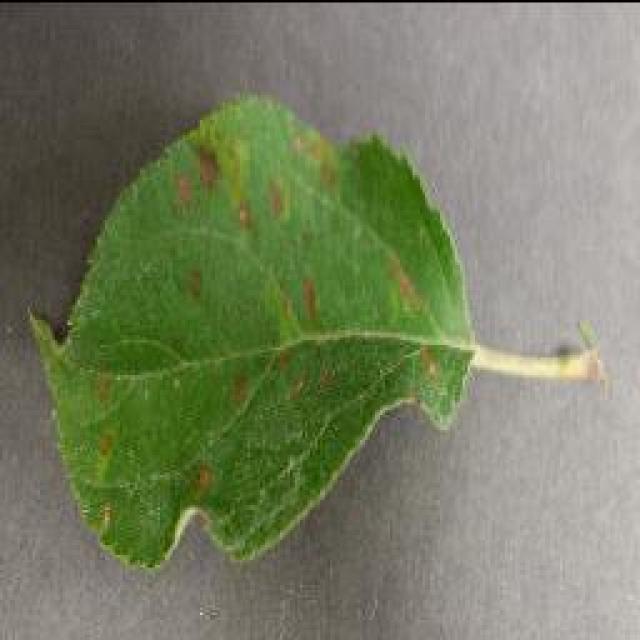apple scab disease: (25, 88, 607, 570)
